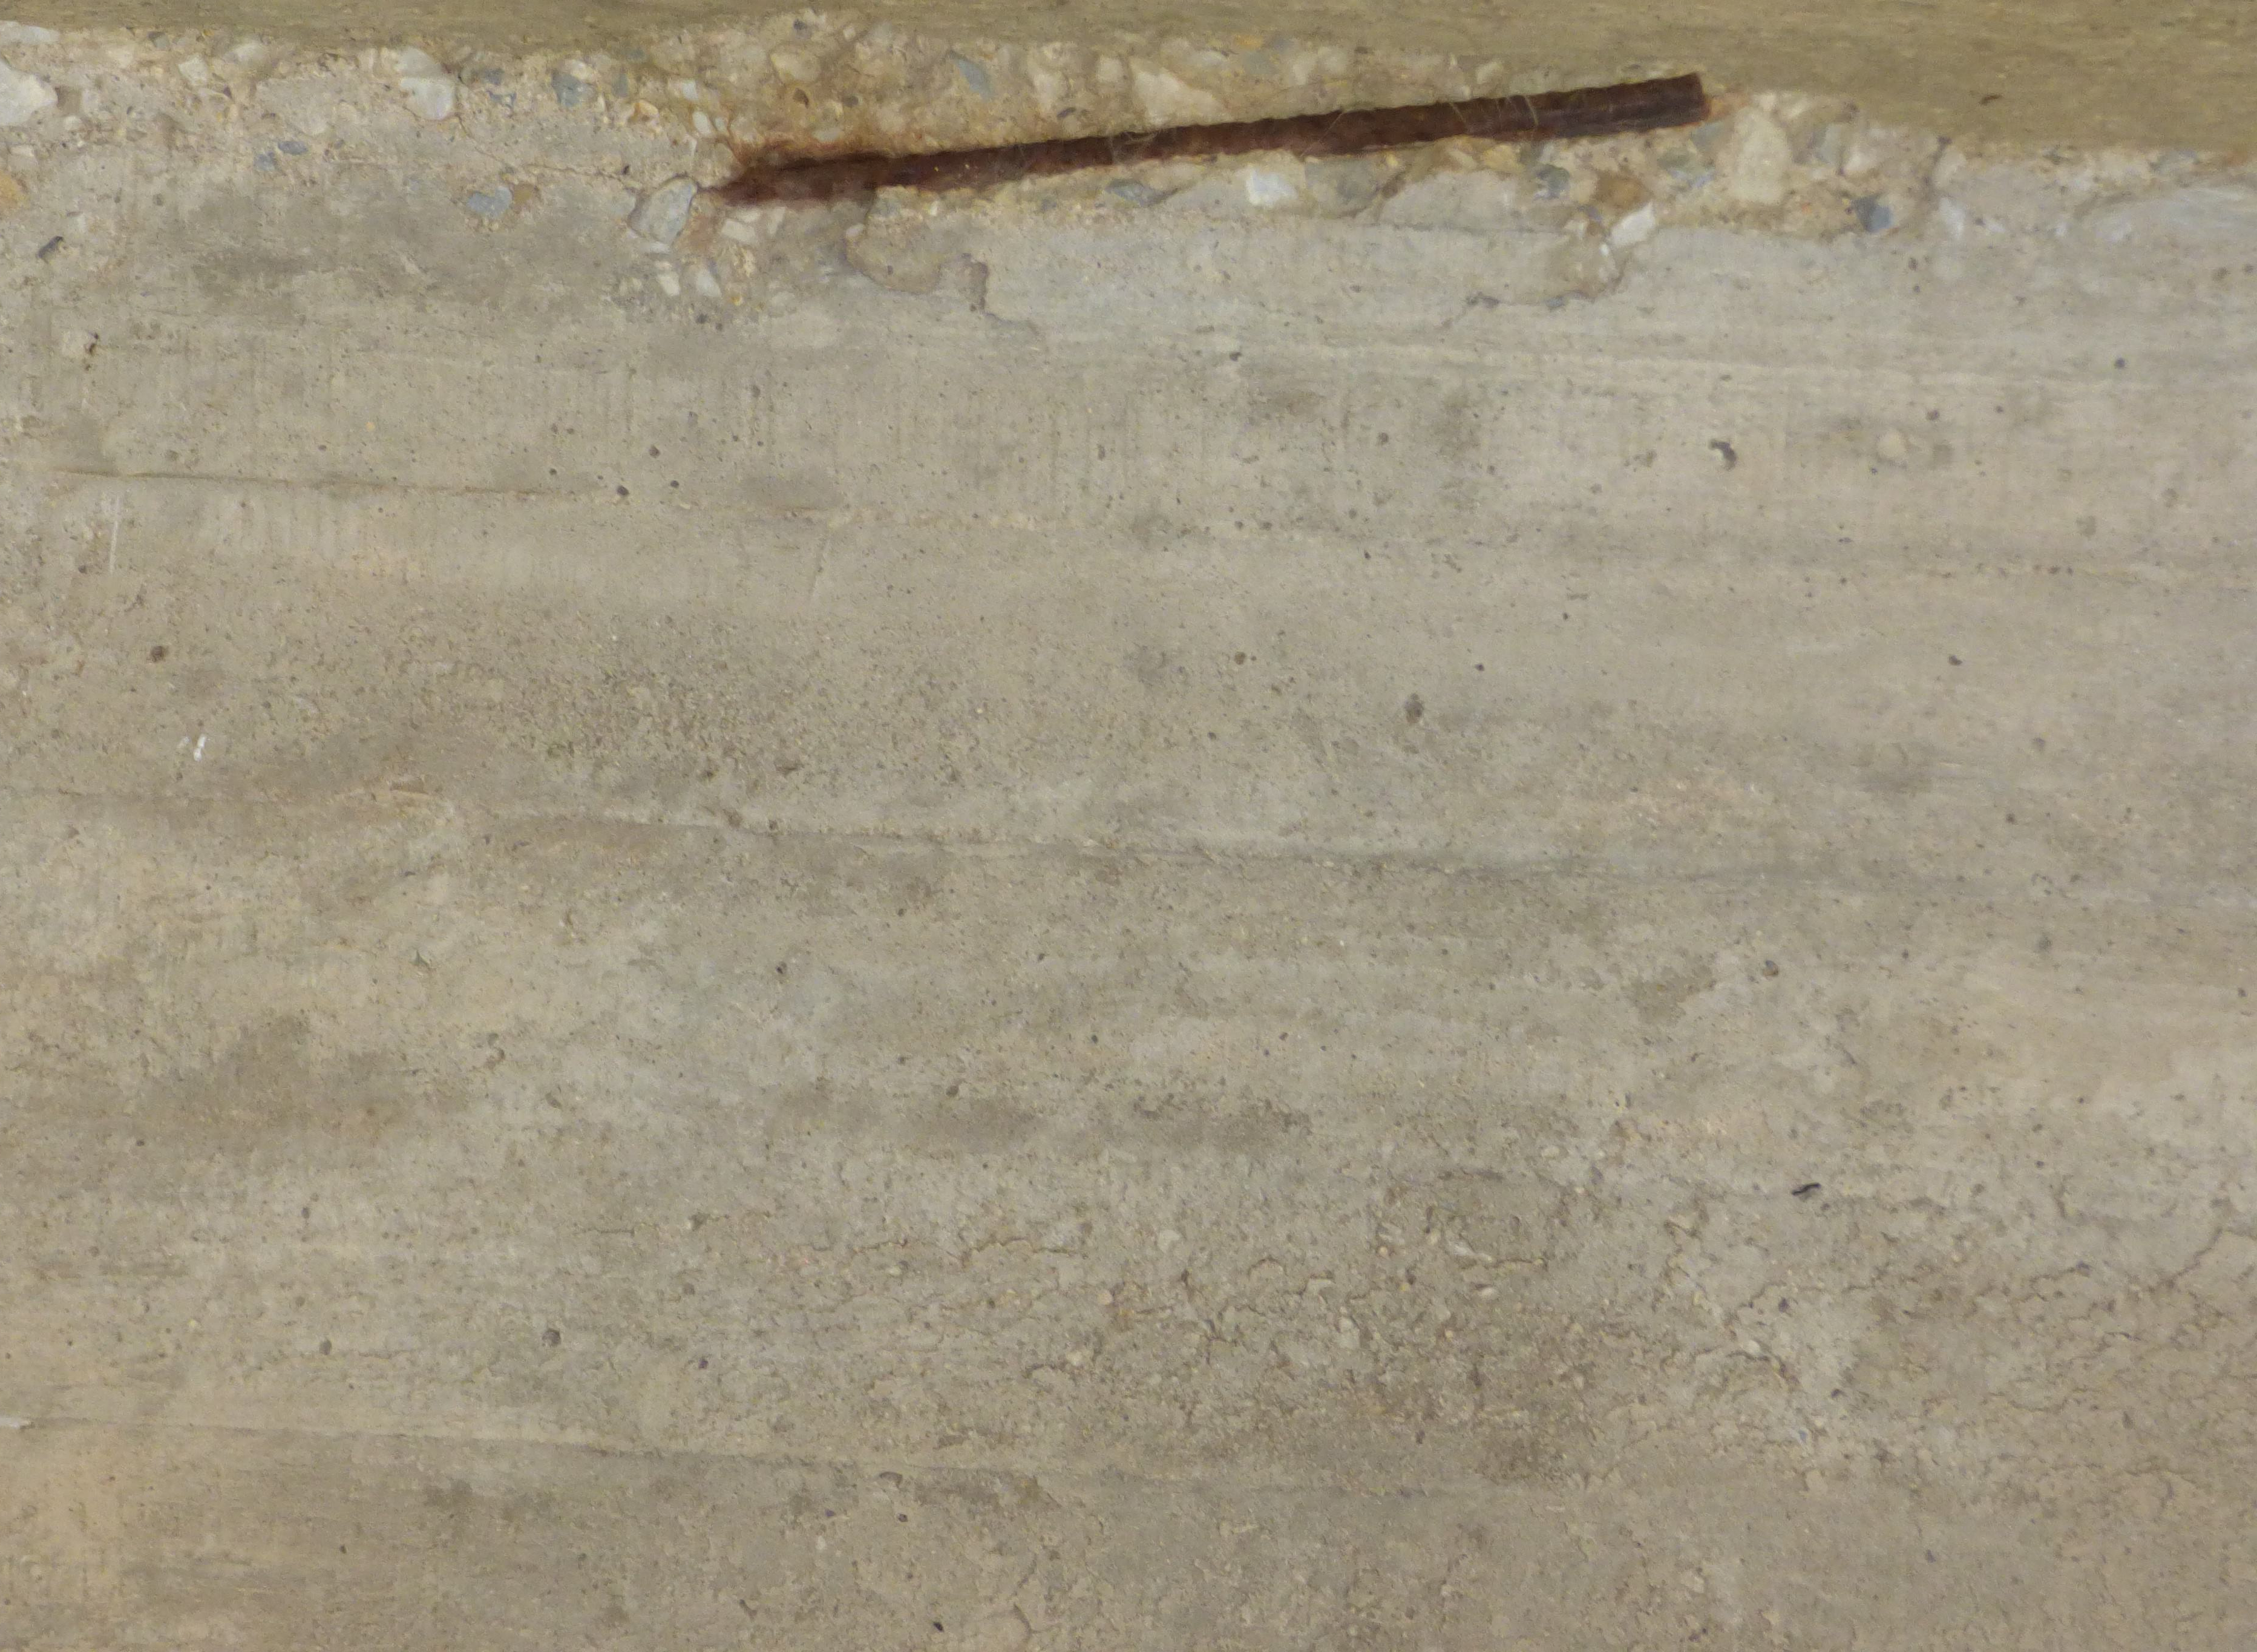Exposed reinforcement: (701, 72, 1714, 210)
Spalling: (543, 7, 1945, 237)
